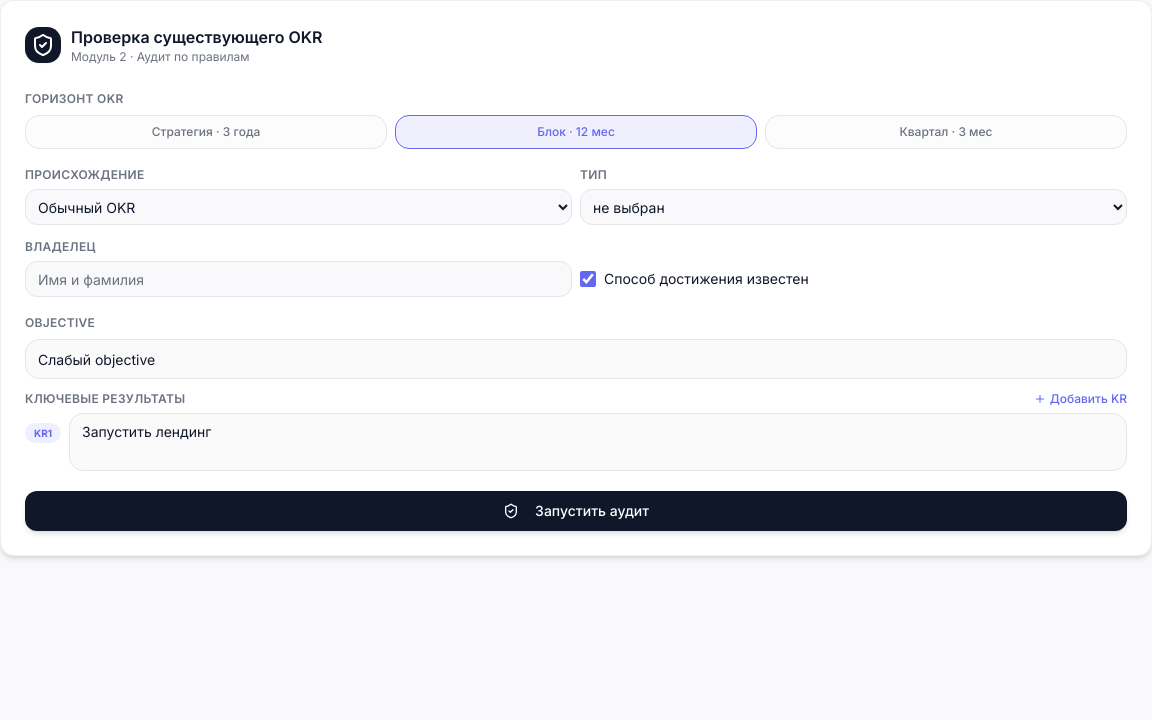
Test: OkrValidator (Module 2) › disables 'Передать в Решения' when score < 70
This screenshot has width=1152, height=720.
Click the button "Запустить аудит". click: [576, 511]
box: [25,491,1127,531]
(page scrolled)
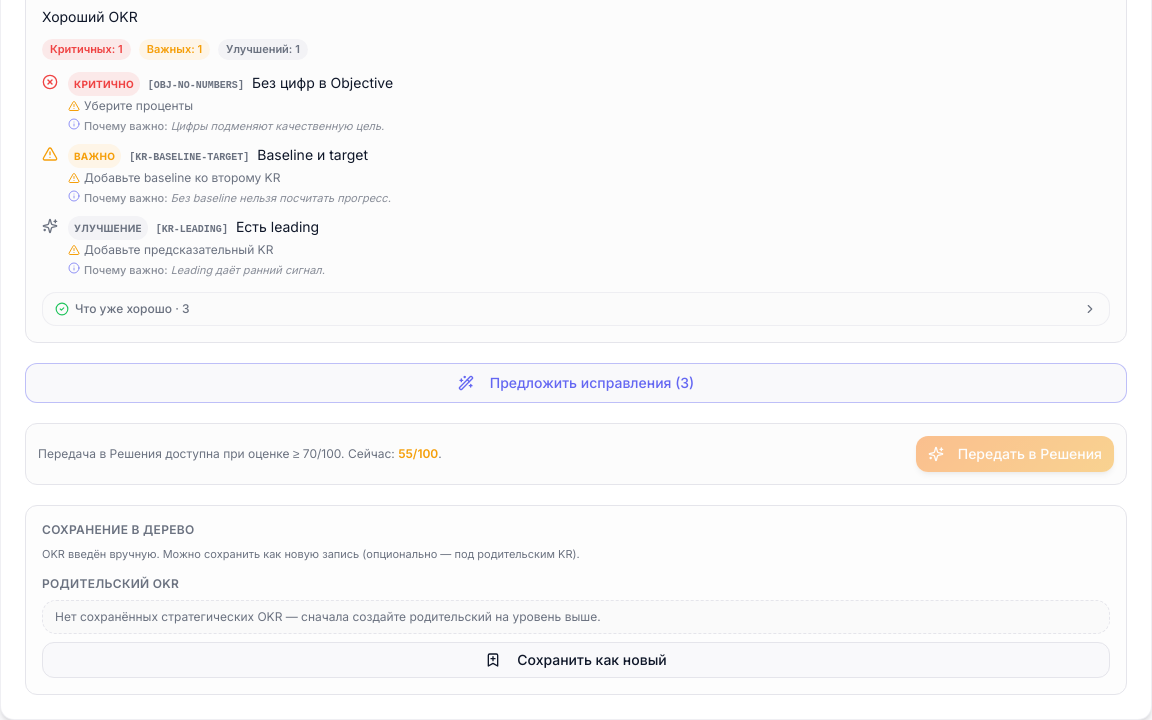
Now the button "Передать в Решения" is disabled, box [916,436,1114,472]
